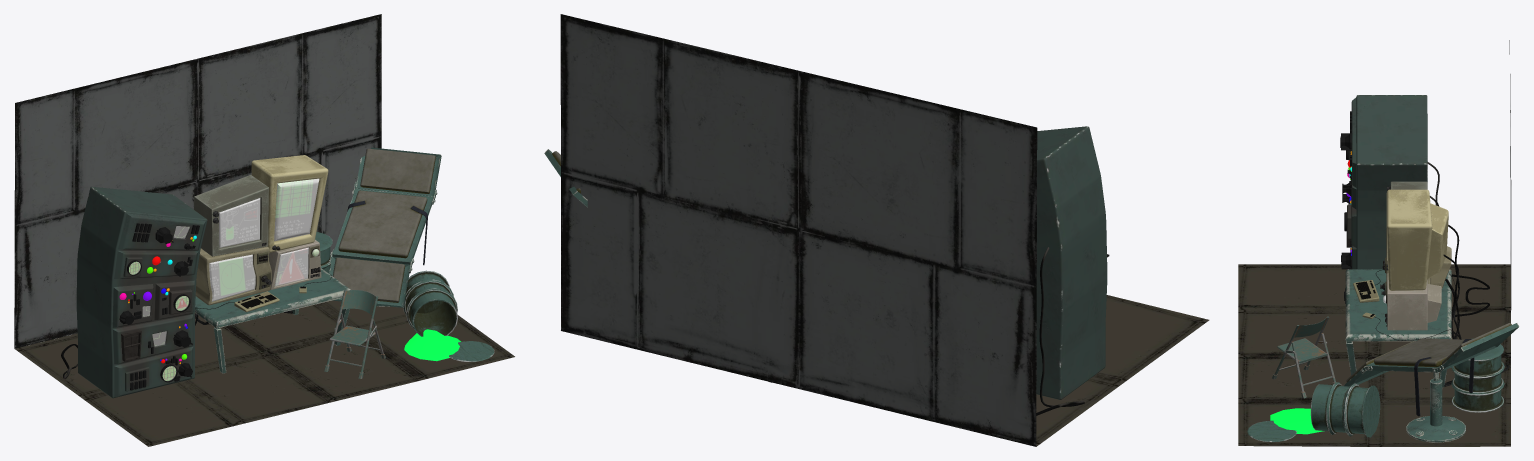
The model's file is specimen.glb.
3 renders of one model, left to right at view 1: azimuth 30°, elevation 25°; view 2: azimuth 150°, elevation 25°; view 3: azimuth 270°, elevation 25°, orthographic. The views are drawn at different scales.
Visible parts, largest first — view 1: Wall_Low, pPlane1, Server_BODY, Top_RIght_Monitor, Top_Left_Monitor, Mid_Cushion, Table, Bottom_Left_Monitor, Vat_Without_Lid, Top_Cushion, Bottom_Cushion, Monitorscreen4 (+13 smaller); view 2: Wall_Low, Server_BODY, pPlane1; view 3: pPlane1, Server_BODY, Top_RIght_Monitor, Table, Vat_Without_Lid, Vat_with_Lid, Bottom_Right_Monitor, Bed_support, Mid_Cushion, Top_Bed_Frame, Legs, Puddle1 (+10 smaller).
Boxes of the visible parts, x1,y1,x2,y2 form: Wall_Low: (14,14,381,348); pPlane1: (15,300,514,446); Server_BODY: (76,186,207,398); Top_RIght_Monitor: (251,155,328,252); Top_Left_Monitor: (194,175,268,256); Mid_Cushion: (338,190,427,258); Table: (195,268,350,373); Bottom_Left_Monitor: (195,246,271,305); Vat_Without_Lid: (403,270,457,336); Top_Cushion: (360,148,435,193); Bottom_Cushion: (332,257,405,302); Monitorscreen4: (275,179,316,240); Wall_Low: (560,14,1037,446); Server_BODY: (1036,126,1107,399); pPlane1: (1036,295,1209,446); pPlane1: (1238,264,1510,446); Server_BODY: (1347,95,1427,269); Top_RIght_Monitor: (1386,189,1448,290); Table: (1345,269,1451,387); Vat_Without_Lid: (1310,382,1380,437); Vat_with_Lid: (1451,338,1504,412); Bottom_Right_Monitor: (1387,273,1441,330); Bed_support: (1406,372,1465,442); Mid_Cushion: (1374,338,1469,367); Top_Bed_Frame: (1441,323,1519,371); Legs: (1272,316,1335,398); Puddle1: (1270,408,1324,434).
Bounding box in the file's own units: 7.72 × 4.57 × 4.58.
Materials: 33 (29 with a texture image).
